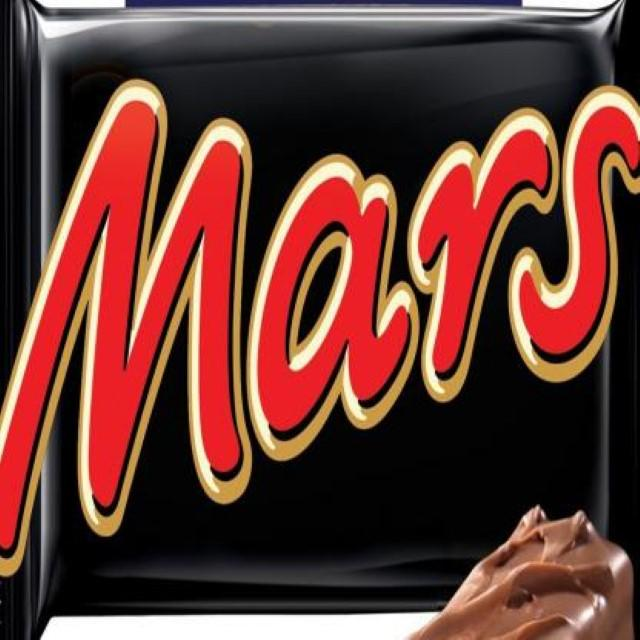mars_chocolate: (32, 77, 635, 585)
